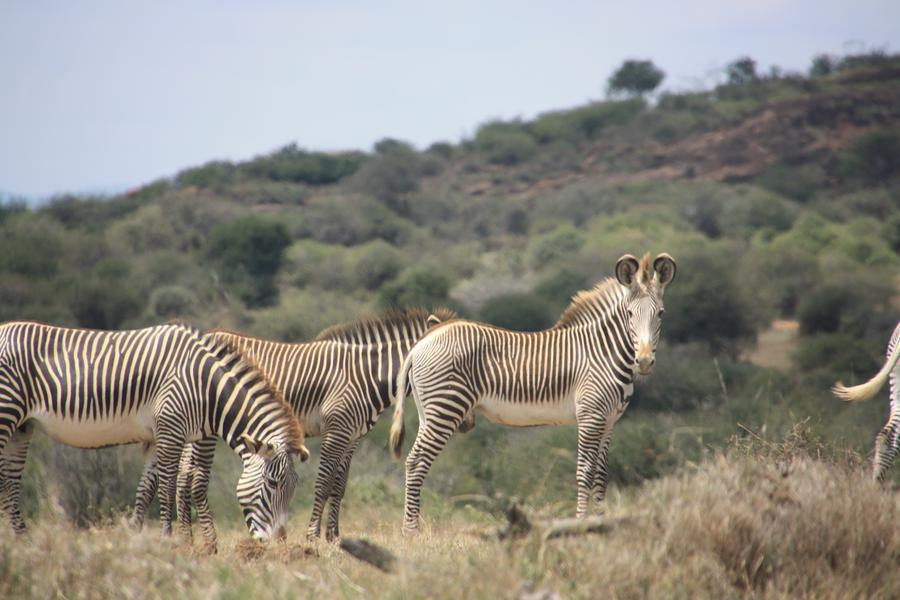zebra_grevys: (412, 309, 613, 433)
